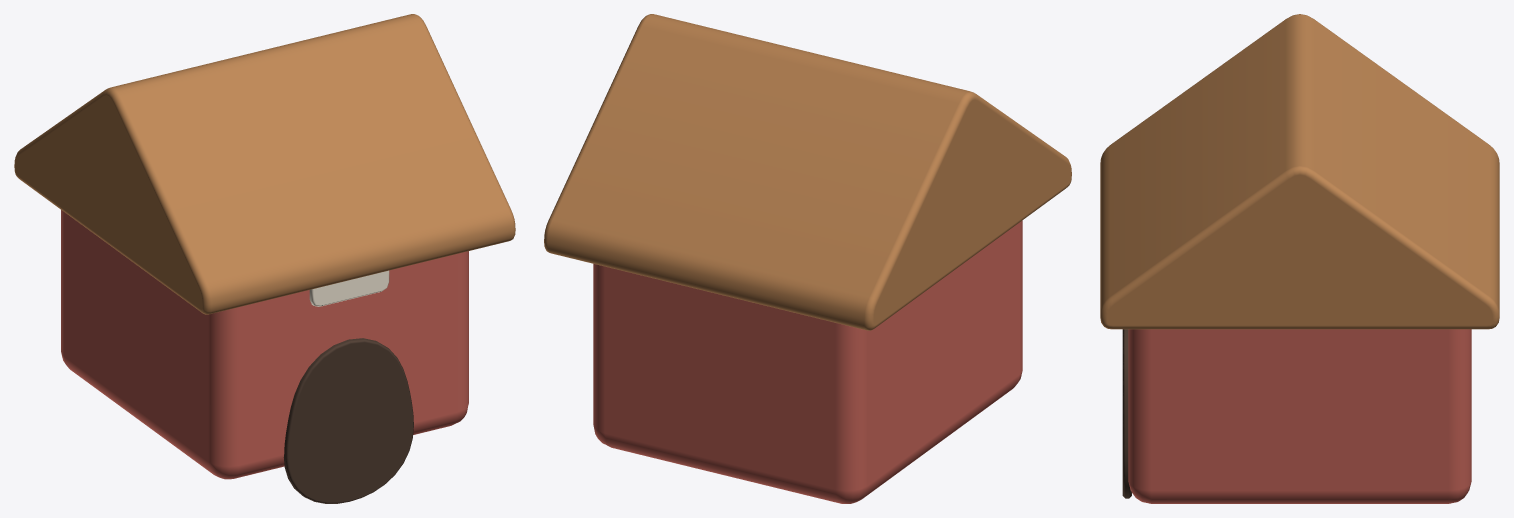
The model's file is petroom_dog_house.glb.
3 renders of one model, left to right at view 1: azimuth 30°, elevation 25°; view 2: azimuth 150°, elevation 25°; view 3: azimuth 270°, elevation 25°, orthographic. The views are drawn at different scales.
Visible parts, largest first — view 1: petroom_dog_house_mesh; view 2: petroom_dog_house_mesh; view 3: petroom_dog_house_mesh.
Boxes of the visible parts, x1,y1,x2,y2 form: petroom_dog_house_mesh: (14,14,515,503); petroom_dog_house_mesh: (544,14,1071,503); petroom_dog_house_mesh: (1100,14,1499,503).
Size of the model in its own units: 0.8 by 0.9495 by 0.86.
